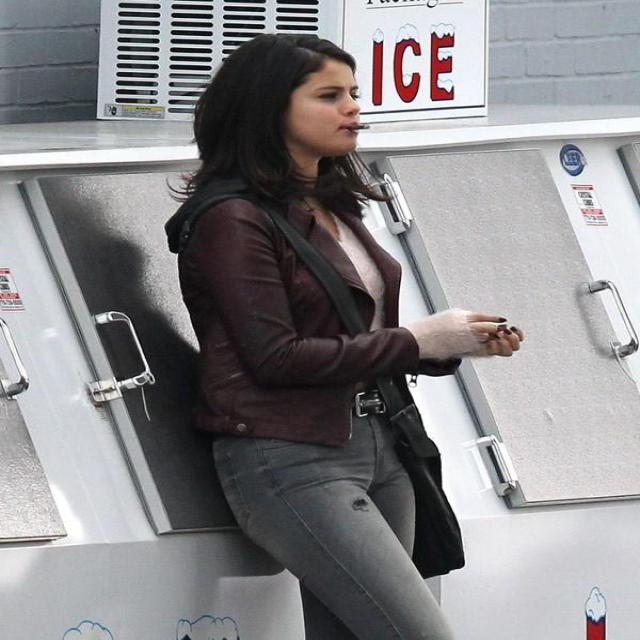Сигарета: (336, 123, 371, 131)
Тело: (179, 34, 524, 640)
